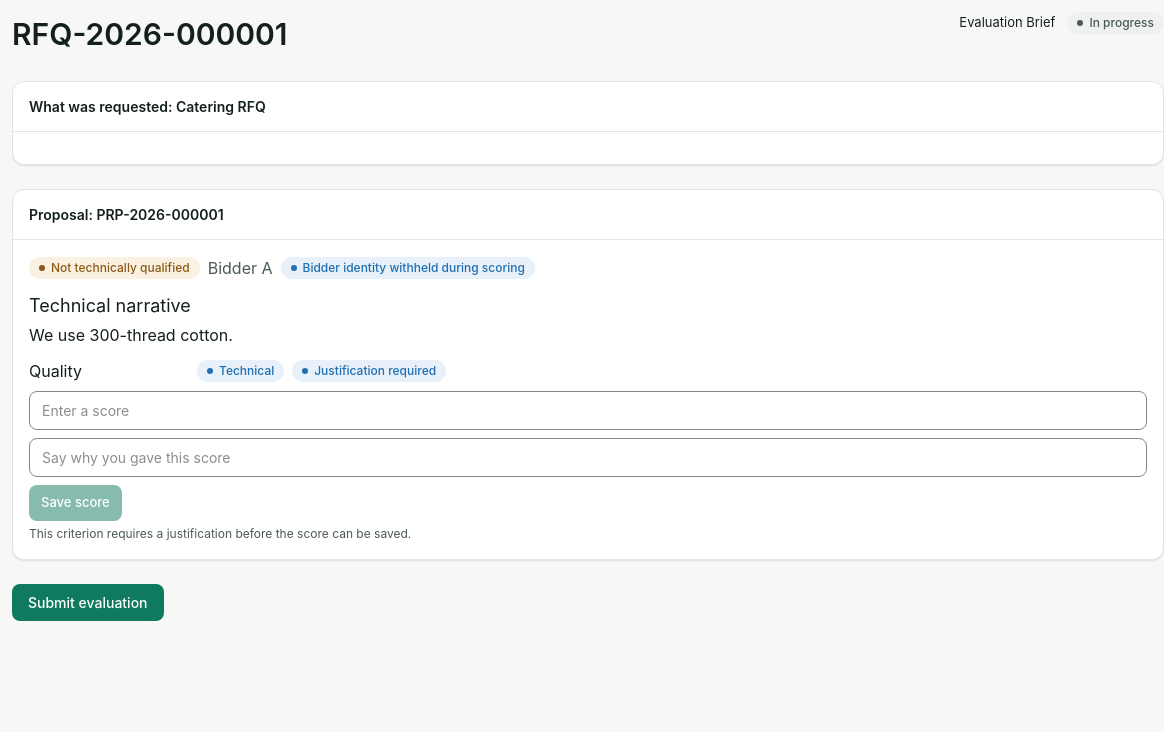
Test: MyEvaluationPage › BRULE-061: a criterion requiring justification cannot be saved until one is written
The width and height of the screenshot is (1164, 732).
In the number field named "Score: Quality": (588, 410) [29,391,1147,430], type "75"
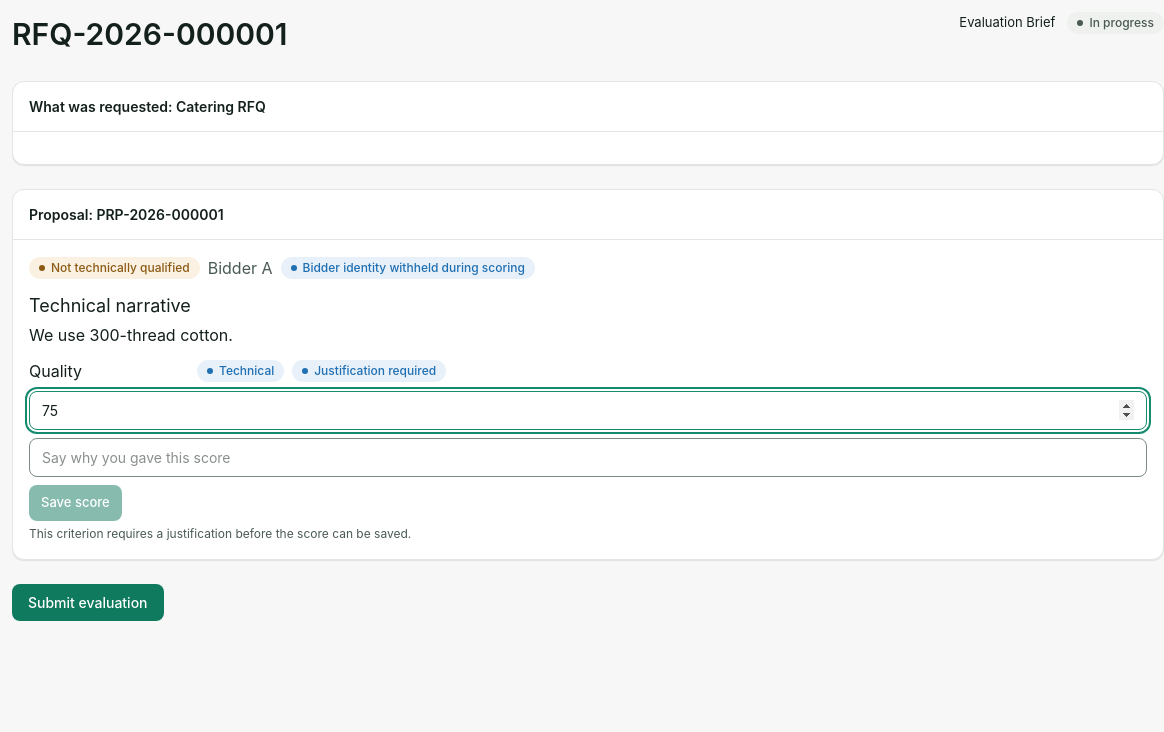
Expected: the button "Save score" is disabled, [29,485,122,520]
Expected: the text "This criterion requires a justification before the score can be saved." is shown, [29,526,411,540]
In the field named "Justification: Quality": (588, 458) [29,438,1147,477], type "Met every stated requirement."
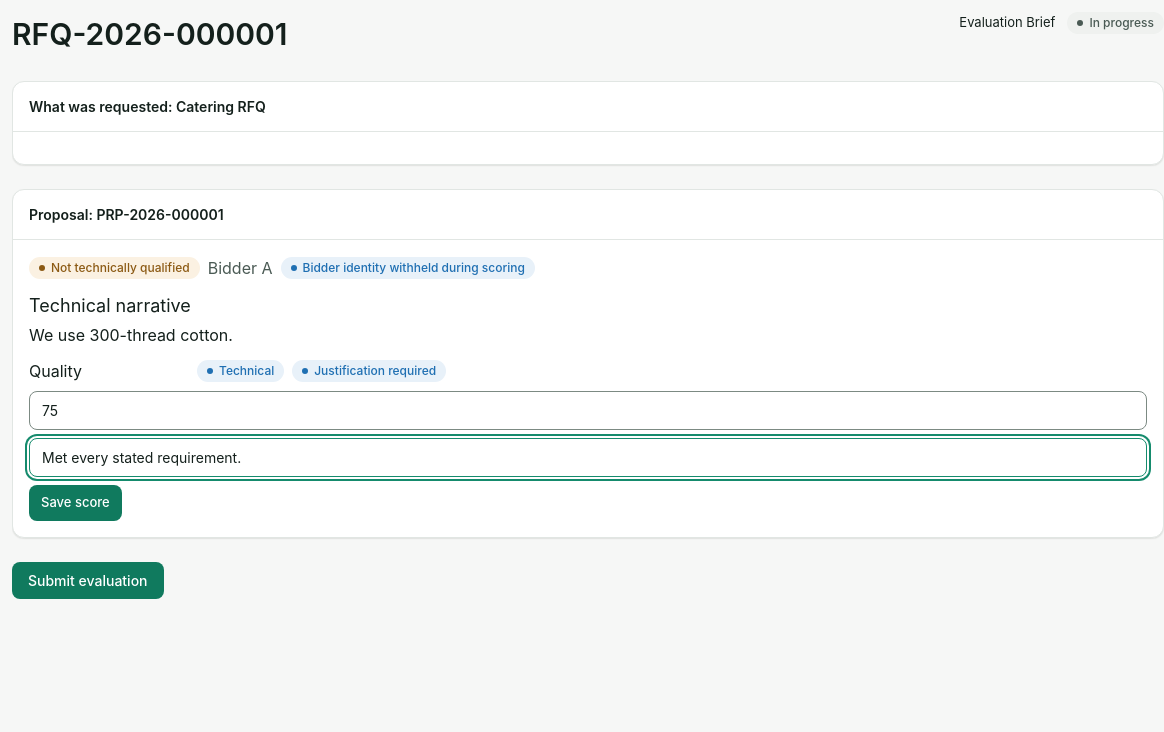
Result: the button "Save score" is enabled at [29,485,122,520]
